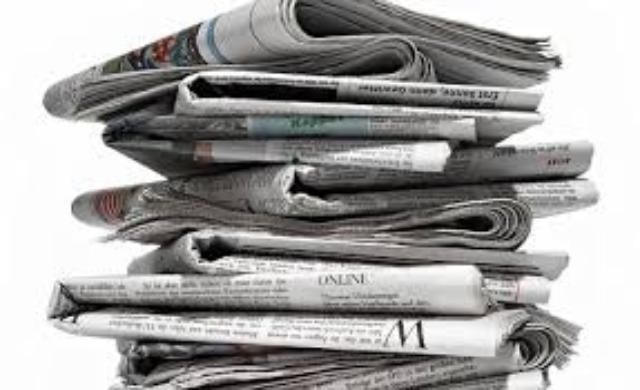cardboard paper: (42, 0, 593, 384)
